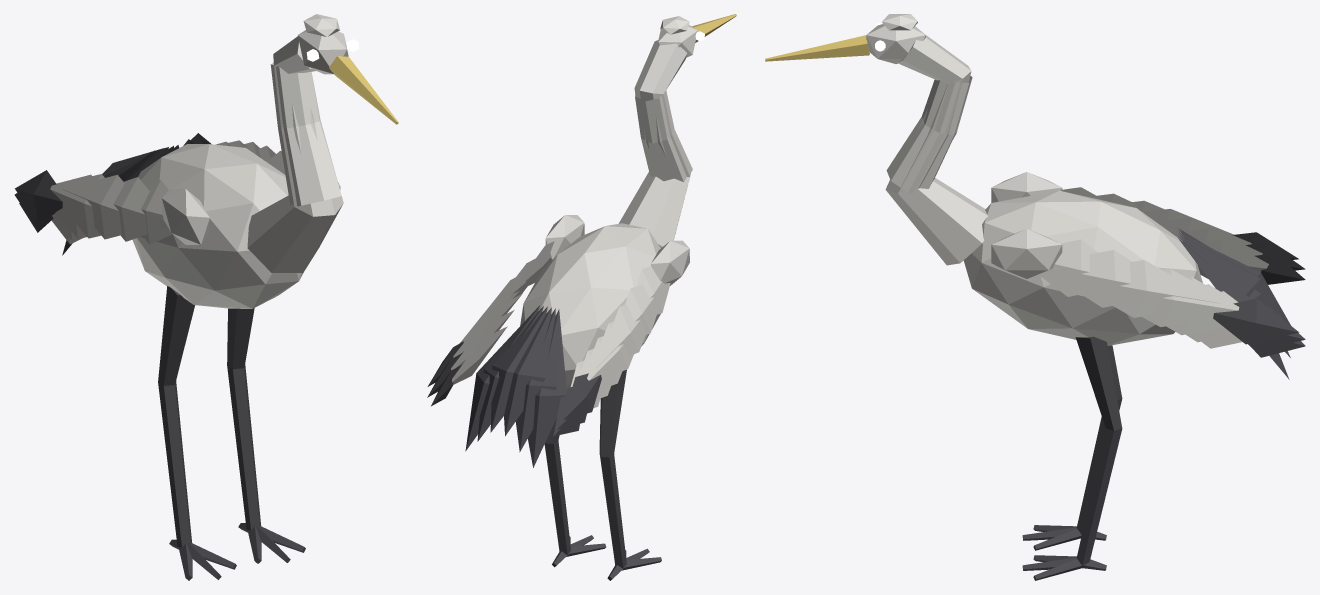
File: beast-crane.glb
3 views of the same model, side by side, from view 1: azimuth 30°, elevation 25°; view 2: azimuth 150°, elevation 25°; view 3: azimuth 270°, elevation 25° (orthographic). The views are drawn at different scales.
Visible parts, largest first — view 1: crane_body; view 2: crane_body; view 3: crane_body.
Part boxes in pixels (x1,y1,x2,y2): crane_body: [14, 14, 398, 580]; crane_body: [427, 14, 736, 580]; crane_body: [765, 14, 1305, 580].
Size of the model in its own units: 0.2361 by 0.7518 by 0.6823.
